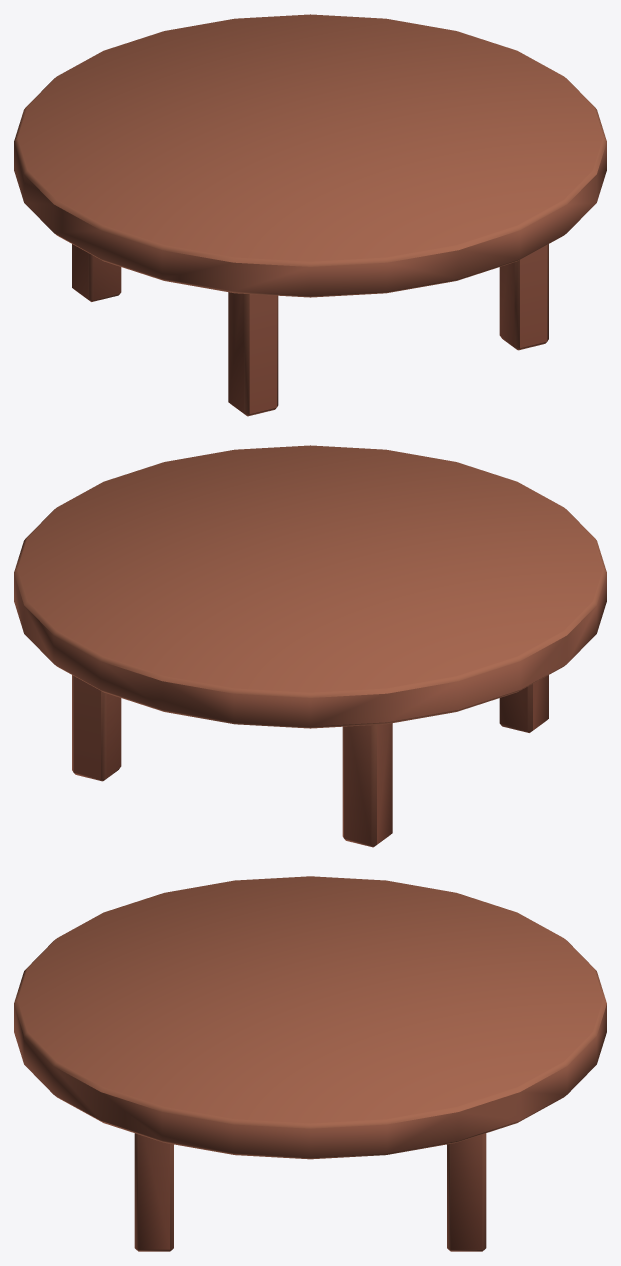
The model's file is Round table.glb.
3 views of the same model, one above another, from view 1: azimuth 30°, elevation 25°; view 2: azimuth 150°, elevation 25°; view 3: azimuth 270°, elevation 25° (orthographic).
Parts seen in each view (by area): view 1: table_round_B; view 2: table_round_B; view 3: table_round_B.
Part boxes in pixels (x1,y1,x2,y2): table_round_B: [14, 14, 606, 416]; table_round_B: [14, 445, 606, 847]; table_round_B: [14, 876, 606, 1251].
Bounding box in the file's own units: 3 × 1 × 3.
1 material, 1 textured.
